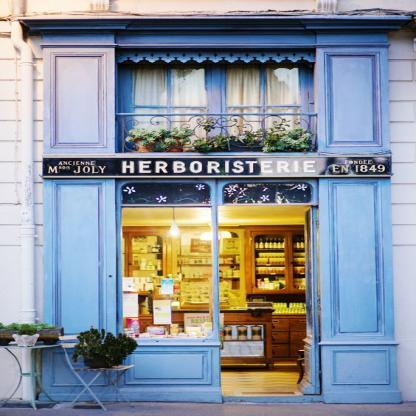Building Outline: (0, 0, 415, 402)
Dont: (0, 322, 139, 411)
Door: (216, 205, 321, 396)
Facade: (0, 0, 415, 402)
Floor: (0, 0, 415, 172)
Ground Floor: (0, 179, 415, 402), (0, 172, 415, 179)
Molding: (19, 17, 412, 35), (117, 48, 316, 63)
Shop: (42, 156, 392, 178)
Window: (120, 208, 213, 339), (224, 63, 299, 151), (133, 64, 207, 151)
Window Hole: (115, 48, 317, 152)
